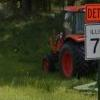Tractor: (38, 5, 100, 78)
